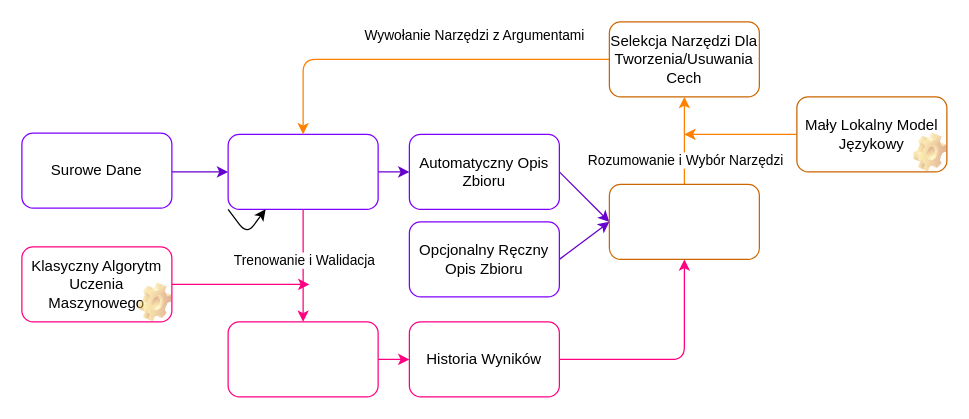
This 969x419 diagram has some shape labels left out. The centre of each missing label's shape, as x and y in pixels:
"Dane Oczyszczone i Wstępnie Przetworzone" goes at (x=302, y=171).
"Kontekst Dla Modelu Językowego" goes at (x=683, y=221).
"Wyniki Walidacji Krzyżowej" goes at (x=302, y=359).
